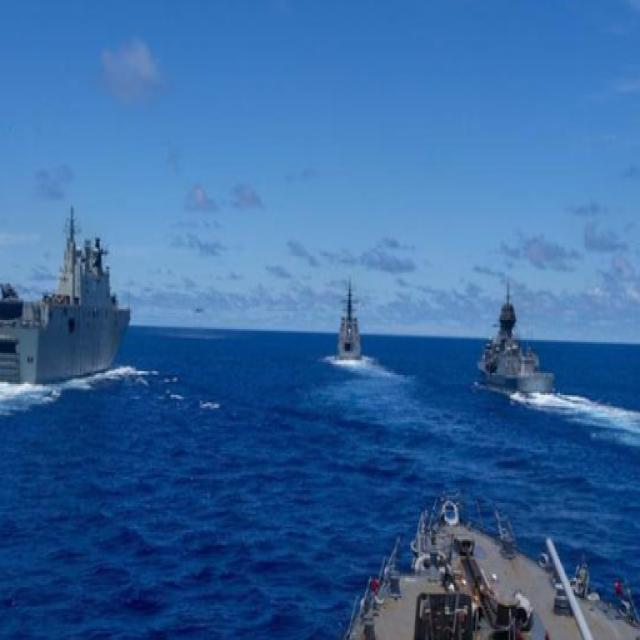navalvessels: (0, 183, 140, 389), (477, 286, 563, 404), (336, 273, 374, 367)
